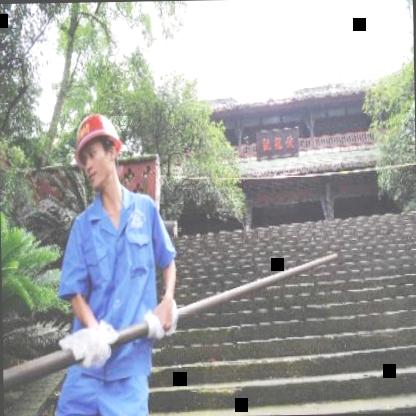helmet: (66, 106, 128, 196)
